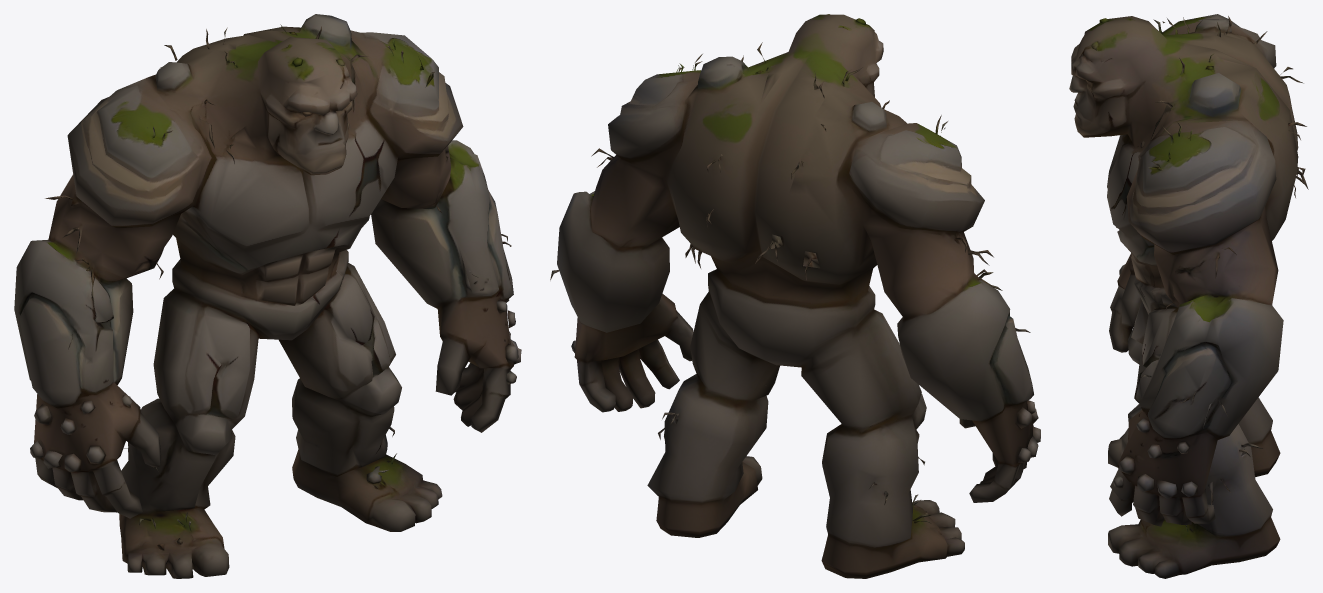
The model's file is Mossback-Stone-Colossus.obj.
3 views of the same model, side by side, from view 1: azimuth 30°, elevation 25°; view 2: azimuth 150°, elevation 25°; view 3: azimuth 270°, elevation 25° (orthographic). The views are drawn at different scales.
Visible parts, largest first — view 1: Mossback-Stone-Colossus-Mesh; view 2: Mossback-Stone-Colossus-Mesh; view 3: Mossback-Stone-Colossus-Mesh.
Part boxes in pixels (x1,y1,x2,y2): Mossback-Stone-Colossus-Mesh: (14,14,521,578); Mossback-Stone-Colossus-Mesh: (550,14,1040,578); Mossback-Stone-Colossus-Mesh: (1069,14,1308,578).
Bounding box in the file's own units: 0.9902 × 0.998 × 0.4473.
Materials: 1 (1 with a texture image).
